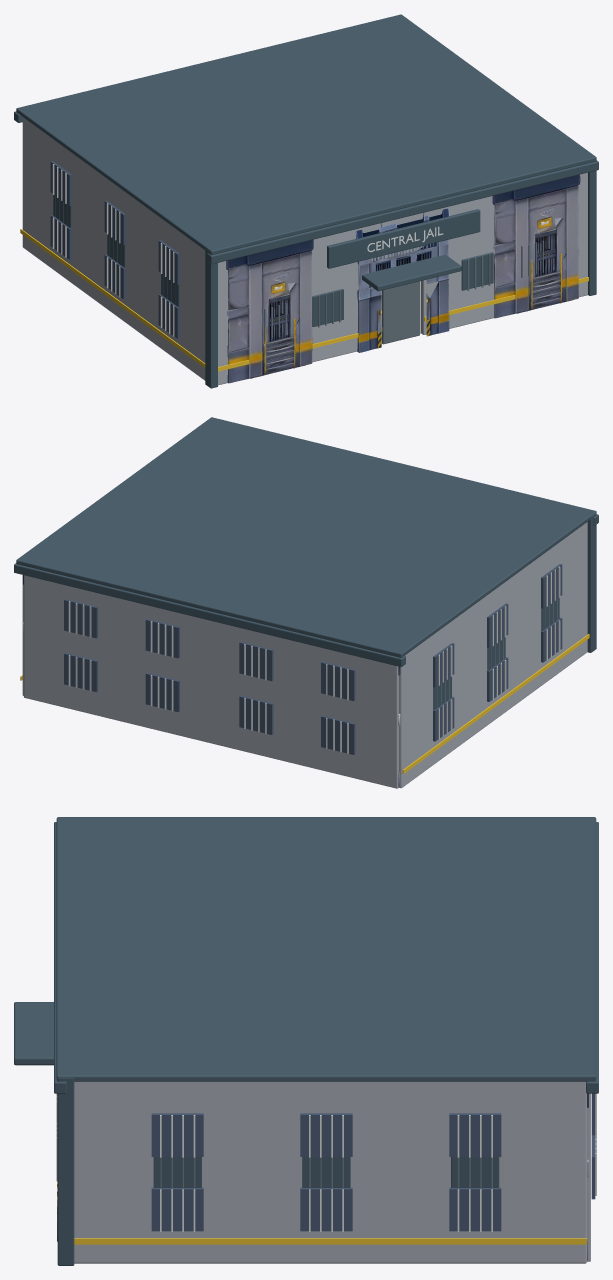
The model's file is jail.glb.
3 views of the same model, one above another, from view 1: azimuth 30°, elevation 25°; view 2: azimuth 150°, elevation 25°; view 3: azimuth 270°, elevation 25° (orthographic). The views are drawn at different scales.
Parts seen in each view (by area): view 1: roof-trim, shell-concrete, shell-trim, meshy-corner-wing, meshy-corner-wing.001, meshy-entrance, entrance door, shell-steel, side safety stripe, side window frame.003, side window frame.001, side window frame.005 (+3 smaller); view 2: roof-trim, shell-concrete, shell-trim, side safety stripe, rear window frame.004, rear window frame.005, rear window frame, rear window frame.001, rear window frame.002, rear window frame.003, rear window frame.006, rear window frame.007 (+6 smaller); view 3: roof-trim, shell-concrete, shell-trim, side safety stripe.001, side window frame.006, side window frame.007, side window frame.008, side window frame.009, side window frame.010, side window frame.011, shell-steel.
Part boxes in pixels (<box>): roof-trim: <box>16,14,596,254</box>; shell-concrete: <box>22,117,587,385</box>; shell-trim: <box>14,111,598,388</box>; meshy-corner-wing: <box>226,239,313,383</box>; meshy-corner-wing.001: <box>492,174,580,318</box>; meshy-entrance: <box>356,208,449,352</box>; entrance door: <box>382,281,419,344</box>; shell-steel: <box>55,196,543,340</box>; side safety stripe: <box>20,229,205,367</box>; side window frame.003: <box>104,200,125,245</box>; side window frame.001: <box>50,161,71,205</box>; side window frame.005: <box>158,240,179,284</box>; roof-trim: <box>16,417,596,657</box>; shell-concrete: <box>22,522,587,788</box>; shell-trim: <box>14,513,598,709</box>; side safety stripe: <box>402,634,589,773</box>; rear window frame.004: <box>145,673,179,712</box>; rear window frame.005: <box>145,619,179,658</box>; rear window frame: <box>321,715,355,754</box>; rear window frame.001: <box>321,661,355,701</box>; rear window frame.002: <box>239,695,273,734</box>; rear window frame.003: <box>239,642,273,681</box>; rear window frame.006: <box>64,653,97,692</box>; rear window frame.007: <box>64,599,97,638</box>; roof-trim: <box>56,817,596,1081</box>; shell-concrete: <box>74,1081,590,1263</box>; shell-trim: <box>14,822,598,1265</box>; side safety stripe.001: <box>74,1238,586,1244</box>; side window frame.006: <box>449,1187,501,1231</box>; side window frame.007: <box>449,1113,501,1156</box>; side window frame.008: <box>300,1187,352,1231</box>; side window frame.009: <box>300,1113,352,1156</box>; side window frame.010: <box>151,1187,203,1231</box>; side window frame.011: <box>151,1113,203,1156</box>; shell-steel: <box>56,1093,492,1188</box>.
Size of the model in its own units: 16.6 by 5.65 by 15.72.
15 materials, 4 textured.
